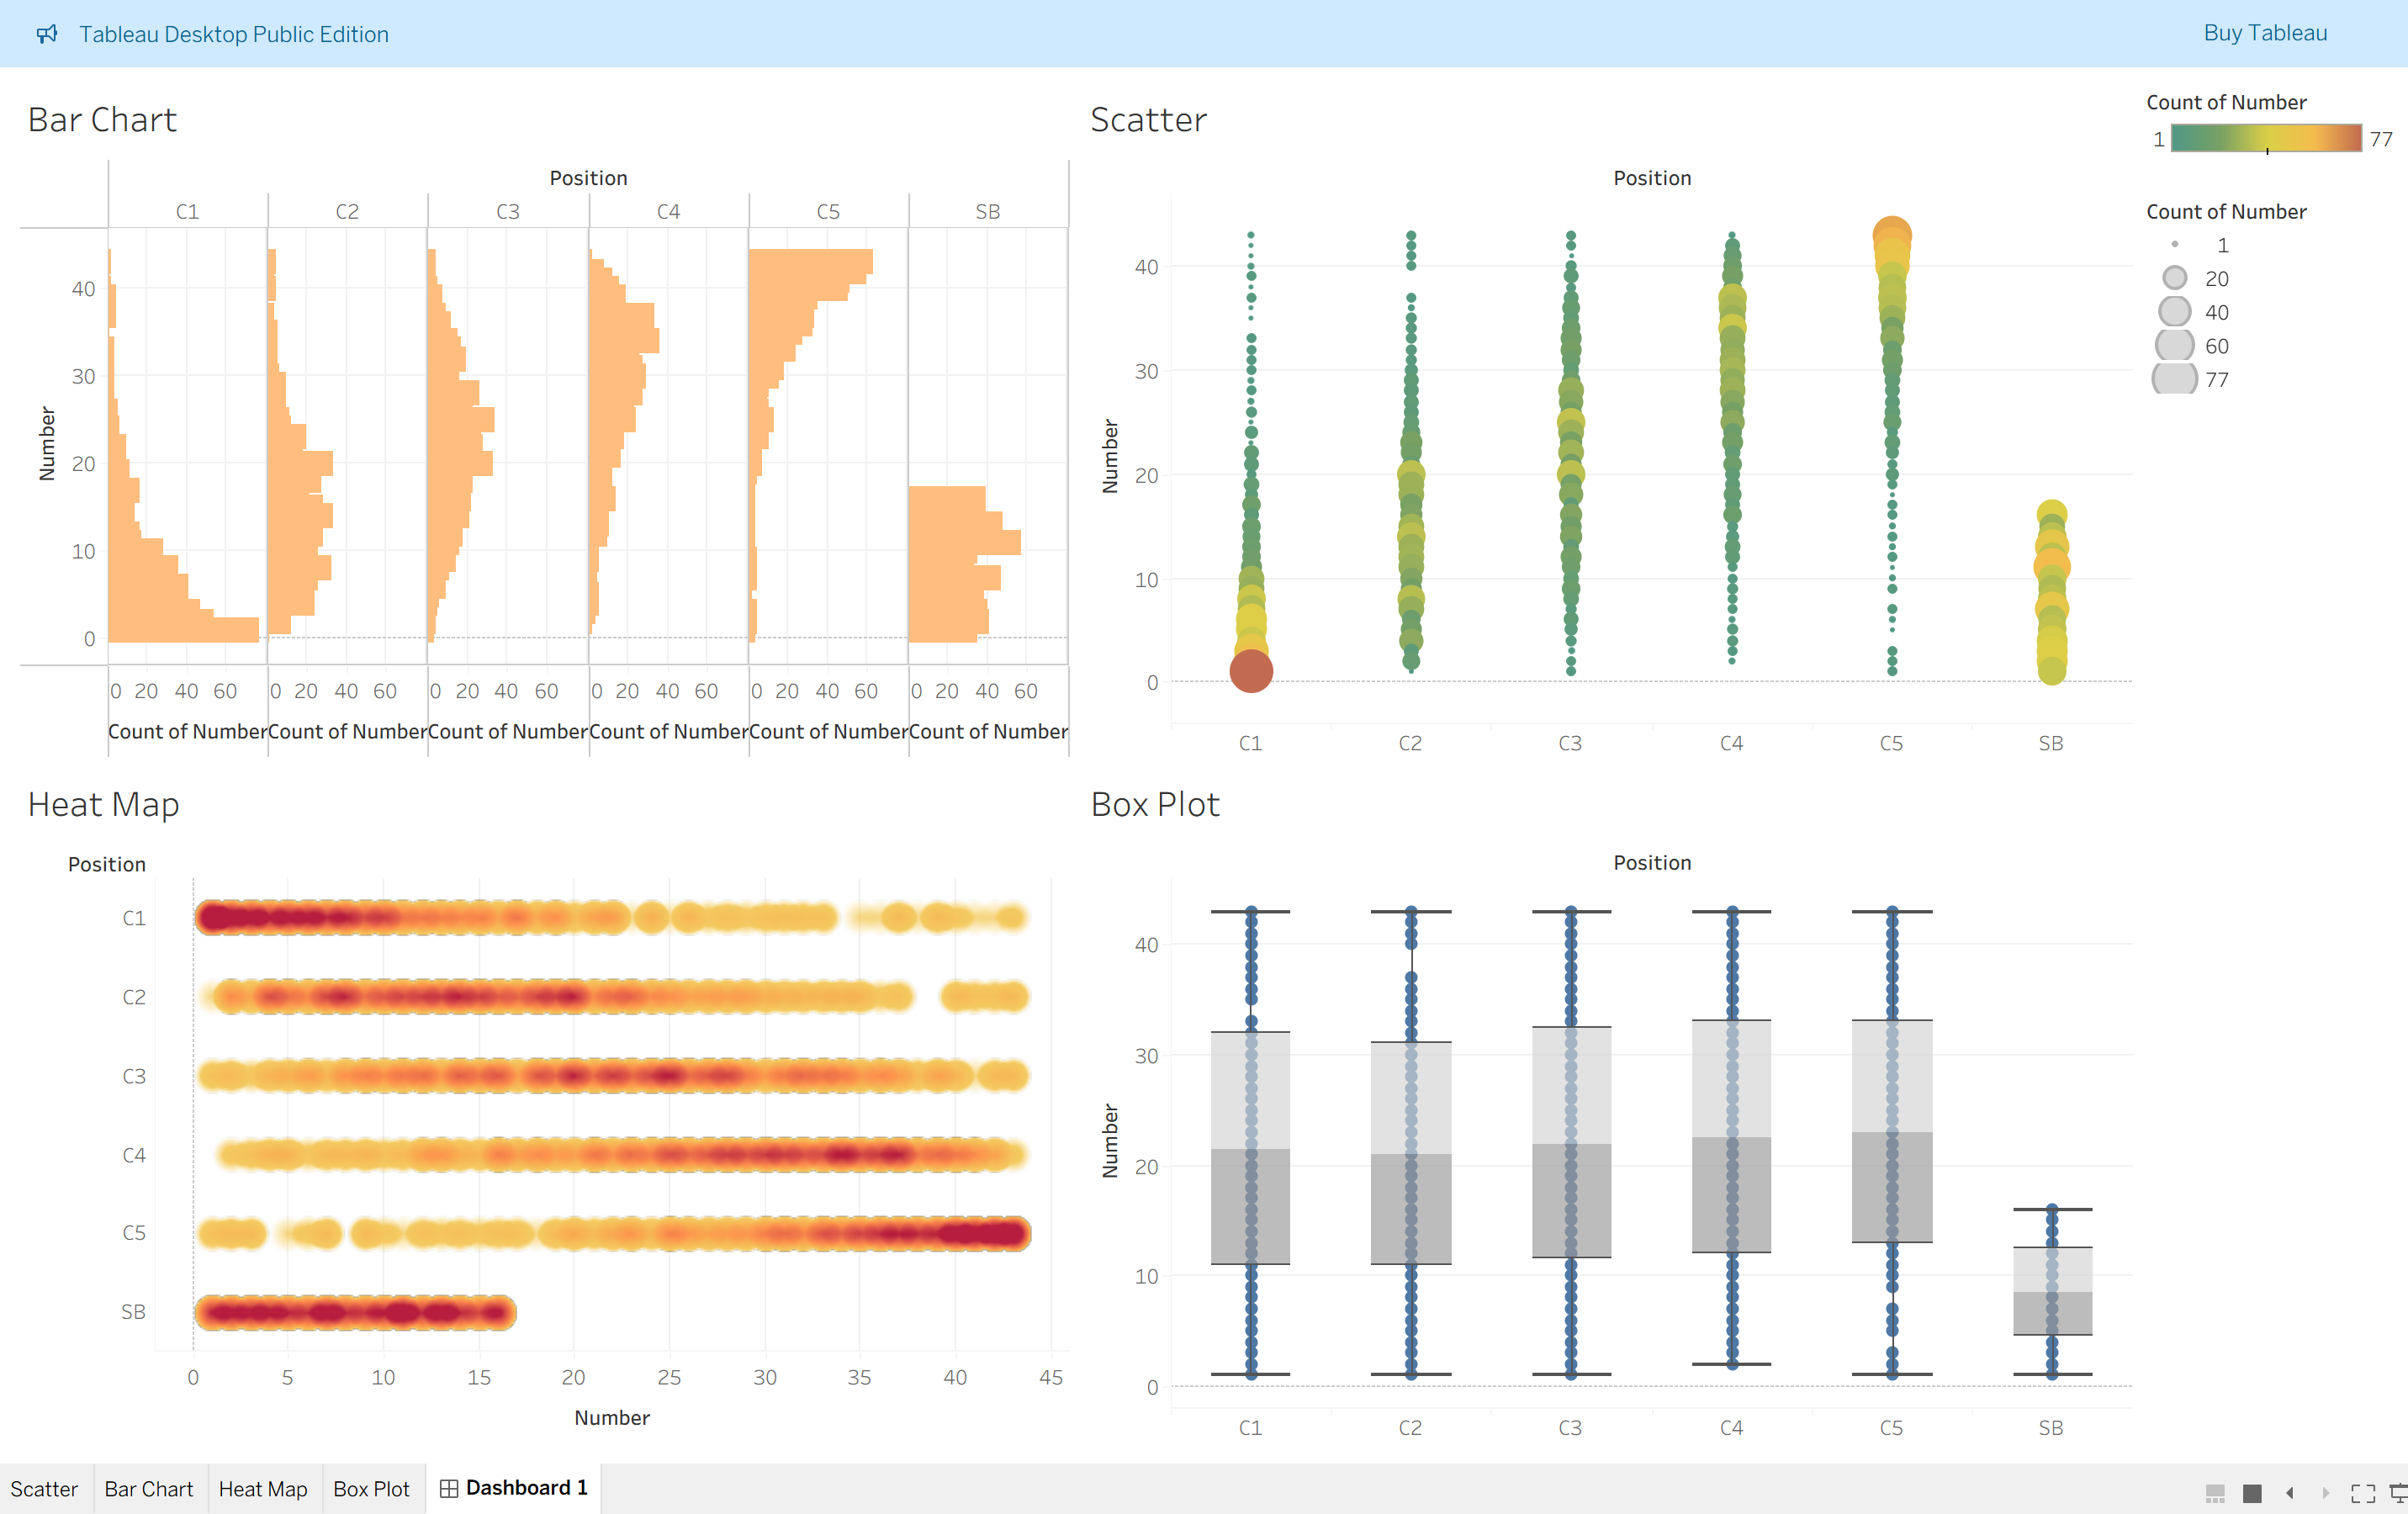

Layout of this report page (visuals, bound fields, positions):
{"tool":"tableau","page":{"name":"Dashboard 1","canvas":[1000,1000],"units":"permille","ordinal":0},"visuals":[{"type":"worksheet","title":"Bar Chart","mark":"Bar","rows":["Pivot Field Values"],"cols":["Pivot Field Names","Pivot Field Values"],"box":[6.5,11.8,428.4,488.2]},{"type":"worksheet","title":"Scatter","mark":"Circle","rows":["Pivot Field Values"],"cols":["Pivot Field Names"],"box":[434.9,11.8,428.4,488.2]},{"type":"legend","title":"Scatter","param":"[federated.0b061f412r5jon1gkzc7v1bgqzax].[cnt:Pivot Field Values:qk]","box":[863.3,11.8,130.2,96.2]},{"type":"legend","title":"Scatter","param":"[federated.0b061f412r5jon1gkzc7v1bgqzax].[cnt:Pivot Field Values:qk]","box":[863.3,108,130.2,186.4]},{"type":"worksheet","title":"Heat Map","mark":"Heatmap","rows":["Pivot Field Names"],"cols":["Pivot Field Values"],"box":[6.5,500,428.4,488.2]},{"type":"worksheet","title":"Box Plot","mark":"Circle","rows":["Pivot Field Values"],"cols":["Pivot Field Names"],"box":[434.9,500,428.4,488.2]}]}

Visuals, with their boxes on the dashboard's canvas, which has no fixed pixel size, in thousandths of its width and height (x1, y1, x2, y2). These are canvas units, not pixel positions in the 2408x1514 screenshot, which may show the page scaled, cropped or inside an application window:
"Bar Chart" worksheet (Bar marks): box=[6, 12, 435, 500]
"Scatter" worksheet (Circle marks): box=[435, 12, 863, 500]
"Scatter" legend: box=[863, 12, 994, 108]
"Scatter" legend: box=[863, 108, 994, 294]
"Heat Map" worksheet (Heatmap marks): box=[6, 500, 435, 988]
"Box Plot" worksheet (Circle marks): box=[435, 500, 863, 988]
